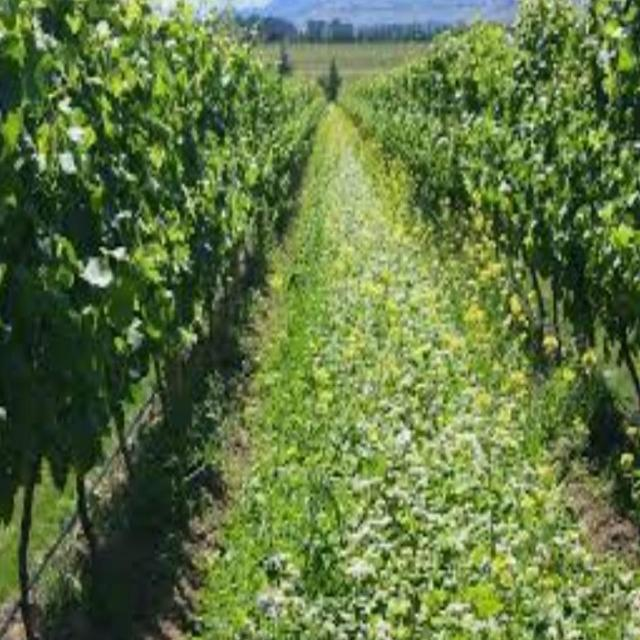row: (51, 100, 640, 640)
